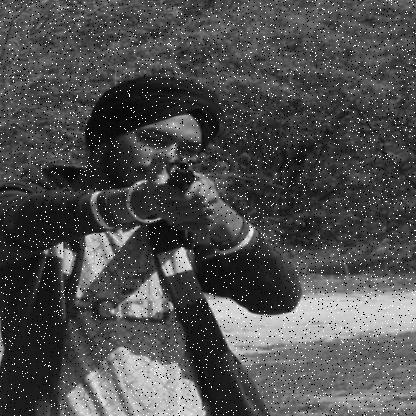rifle: (165, 153, 199, 245)
